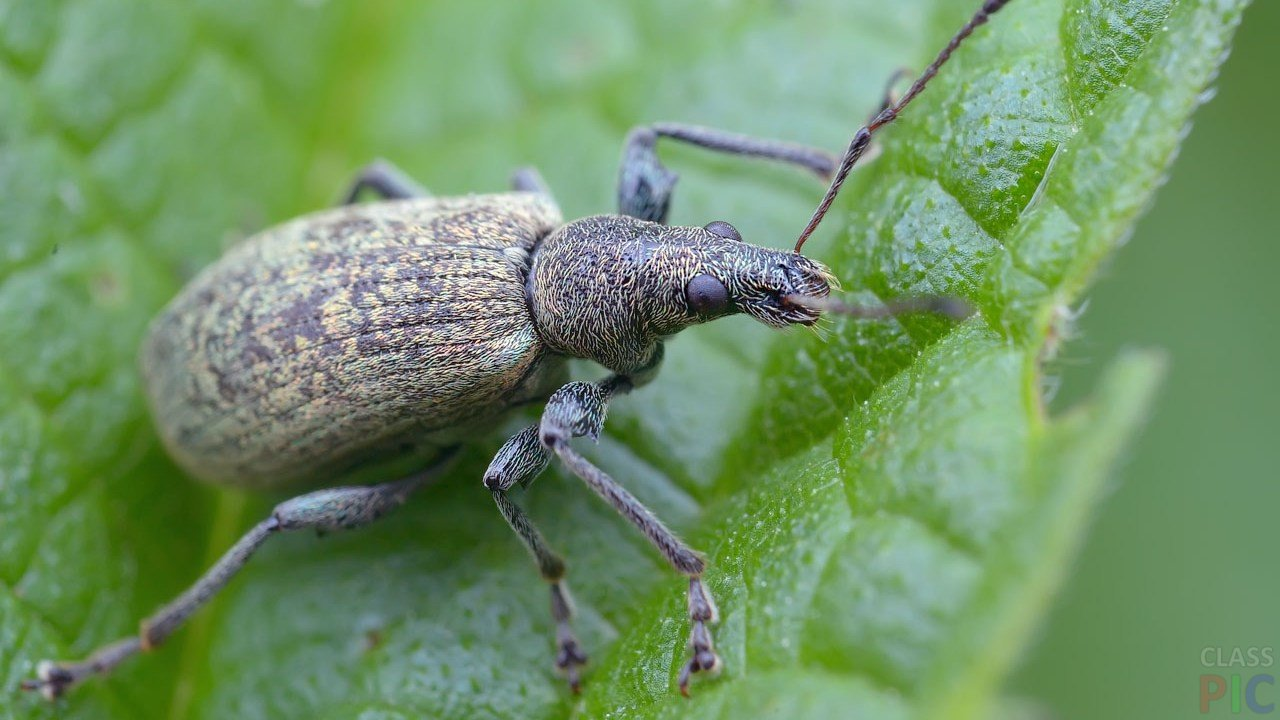dolgonosik: (19, 125, 1022, 683)
